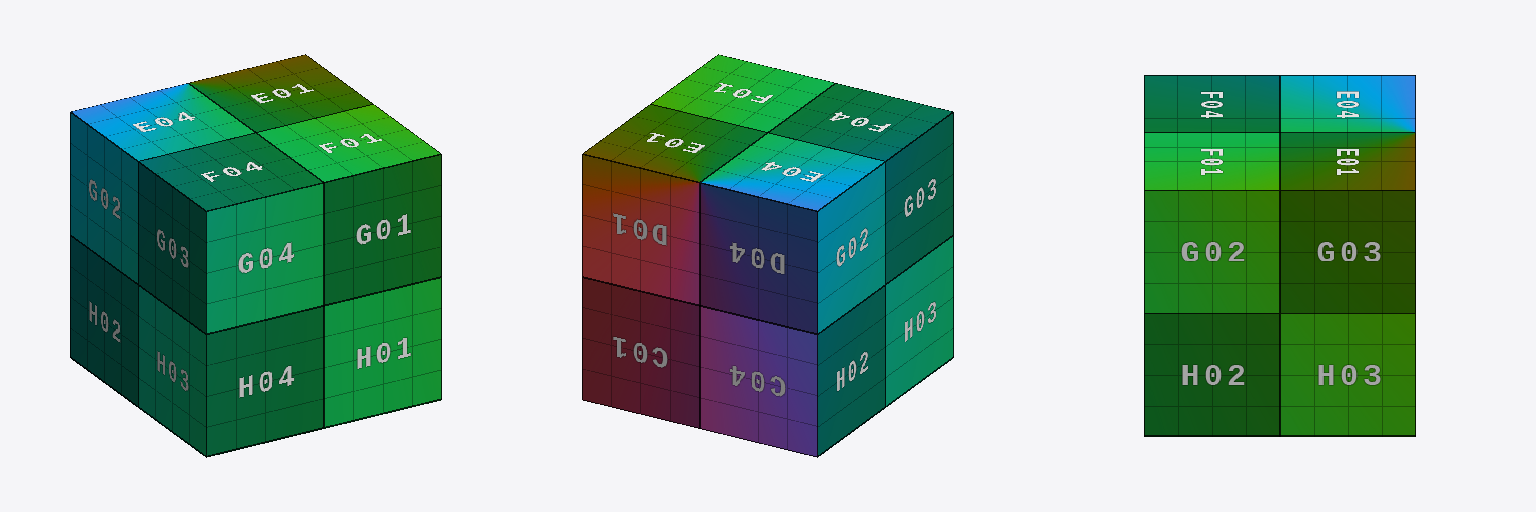
3 renders of one model, left to right at view 1: azimuth 30°, elevation 25°; view 2: azimuth 150°, elevation 25°; view 3: azimuth 270°, elevation 25°, orthographic.
Parts seen in each view (by area): view 1: pCube2_2; view 2: pCube2_2; view 3: pCube2_2.
Boxes of the visible parts, x1,y1,x2,y2 form: pCube2_2: [70, 54, 441, 457]; pCube2_2: [582, 54, 953, 457]; pCube2_2: [1144, 75, 1415, 436].
Size of the model in its own units: 0.3815 by 0.3815 by 0.3815.
Materials: 1 (1 with a texture image).